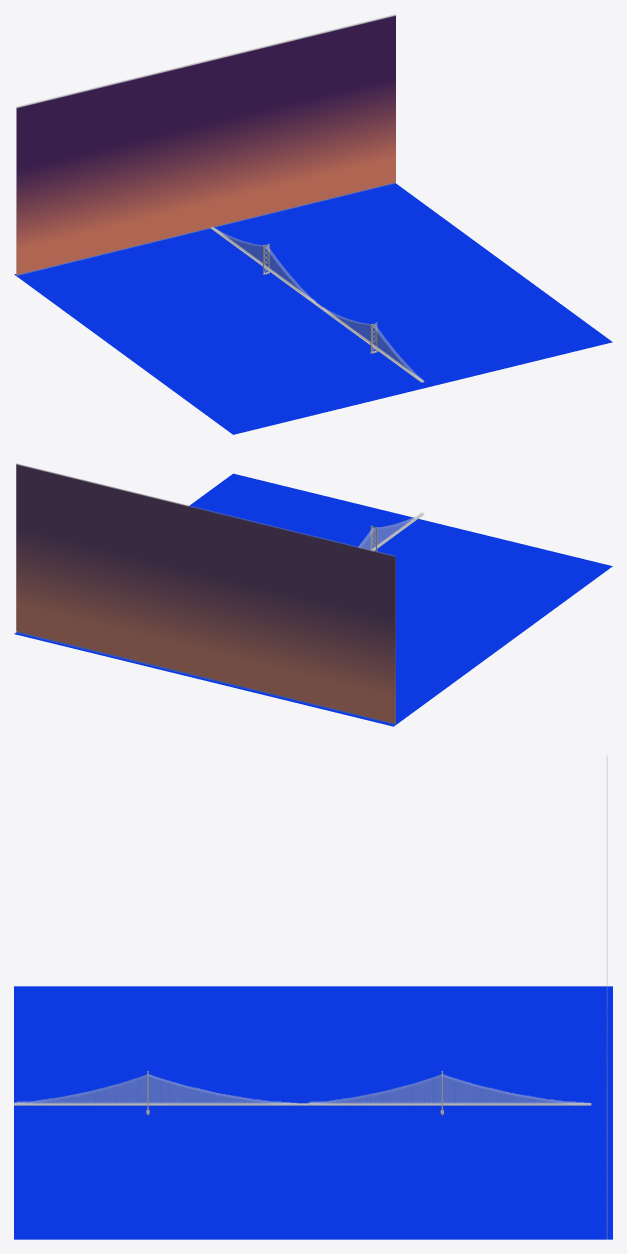
The model's file is asset.glb.
3 views of the same model, one above another, from view 1: azimuth 30°, elevation 25°; view 2: azimuth 150°, elevation 25°; view 3: azimuth 270°, elevation 25° (orthographic). The views are drawn at different scales.
Visible parts, largest first — view 1: umi, 立方体 4, turibasi, michi; view 2: 立方体 4, umi, turibasi; view 3: umi, turibasi, michi.
Boxes of the visible parts, box(x1,y1,x2,y2) form: umi: box(14, 183, 612, 434); 立方体 4: box(16, 14, 395, 275); turibasi: box(211, 226, 423, 381); michi: box(210, 227, 424, 382); 立方体 4: box(16, 463, 395, 724); umi: box(14, 473, 612, 726); turibasi: box(358, 512, 423, 550); umi: box(14, 986, 612, 1239); turibasi: box(14, 1074, 591, 1104); michi: box(14, 1103, 591, 1105).
Bounding box in the file's own units: 0.4882 × 0.2077 × 0.4882.
Materials: 4 (2 with a texture image).
